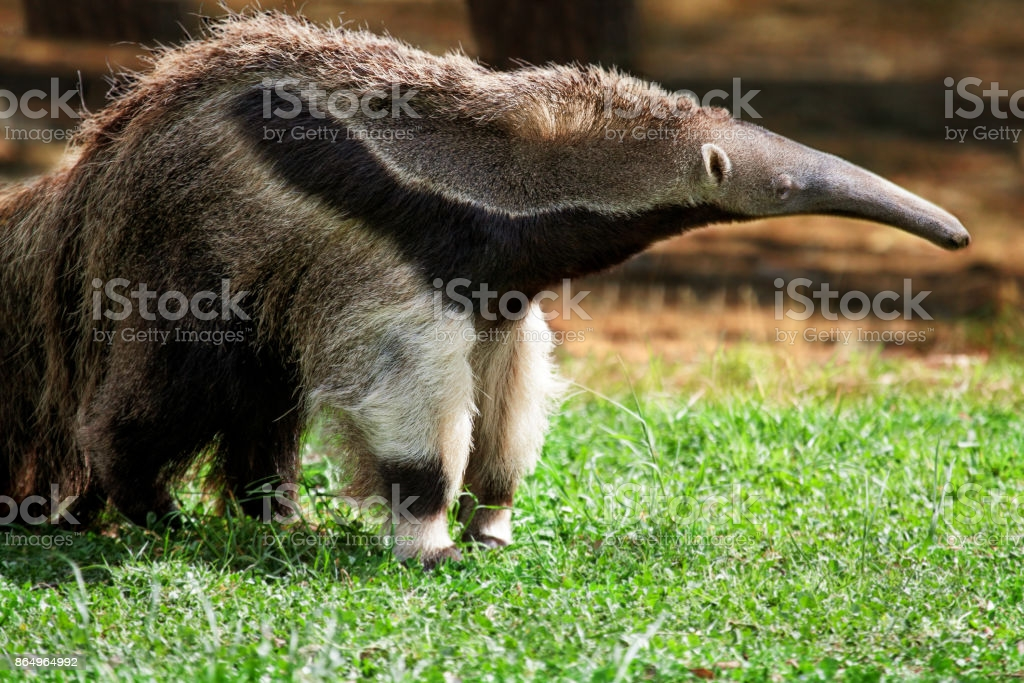TamanduaBandeira: (2, 11, 975, 577)
